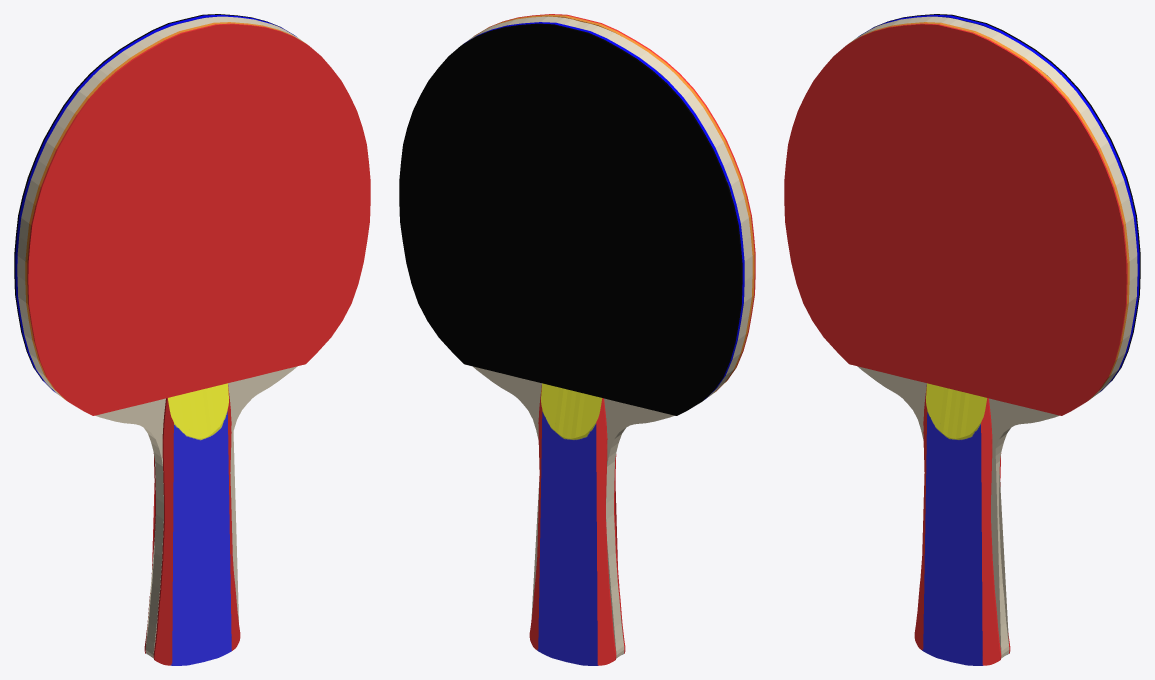
The model's file is Bat.fbx.
3 renders of one model, left to right at view 1: azimuth 30°, elevation 25°; view 2: azimuth 150°, elevation 25°; view 3: azimuth 330°, elevation 25°, orthographic.
Visible parts, largest first — view 1: 胶皮.001, 手柄.002, 板胚.001, 胶皮.002; view 2: 胶皮.002, 手柄.001, 板胚.001, 胶皮.001; view 3: 胶皮.001, 手柄.002, 板胚.001, 胶皮.002.
Part boxes in pixels (x1=…): 胶皮.001: x1=25, y1=22, x2=370, y2=415; 手柄.002: x1=153, y1=383, x2=240, y2=665; 板胚.001: x1=17, y1=16, x2=304, y2=658; 胶皮.002: x1=14, y1=14, x2=296, y2=392; 胶皮.002: x1=399, y1=22, x2=744, y2=415; 手柄.001: x1=529, y1=383, x2=616, y2=665; 板胚.001: x1=465, y1=16, x2=752, y2=658; 胶皮.001: x1=473, y1=14, x2=755, y2=392; 胶皮.001: x1=784, y1=22, x2=1129, y2=415; 手柄.002: x1=914, y1=383, x2=1001, y2=665; 板胚.001: x1=850, y1=16, x2=1137, y2=658; 胶皮.002: x1=858, y1=14, x2=1140, y2=392.
Size of the model in its own units: 15.01 by 26.4 by 1.69.
Materials: 5 (5 with a texture image).
